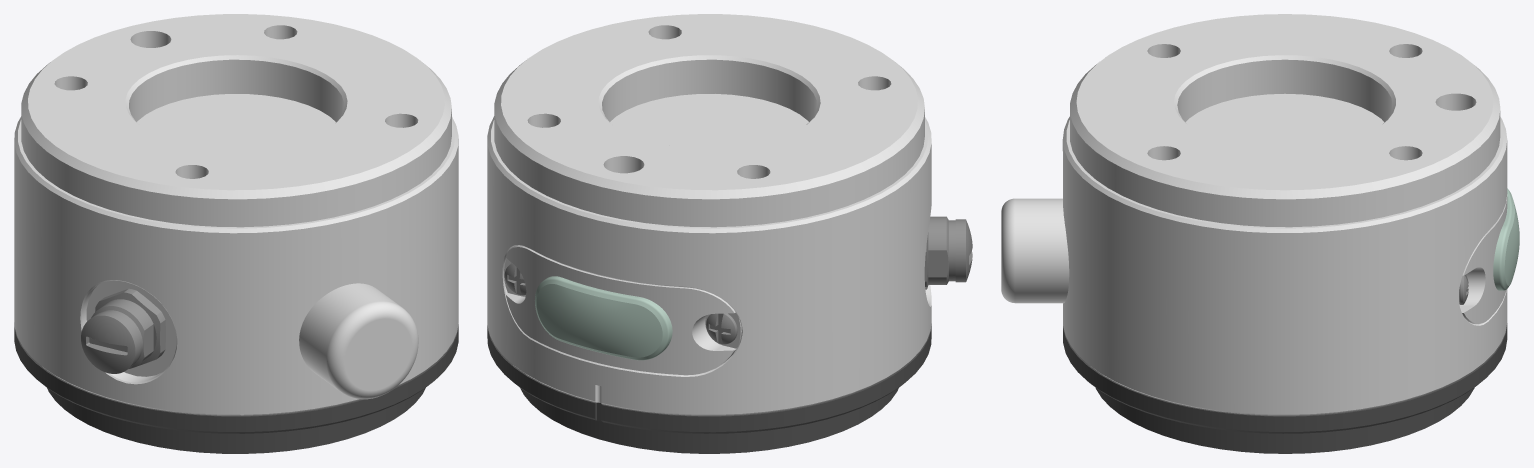
3 views of the same model, side by side, from view 1: azimuth 30°, elevation 25°; view 2: azimuth 150°, elevation 25°; view 3: azimuth 270°, elevation 25° (orthographic).
Parts seen in each view (by area): view 1: 솔리드1.001, 솔리드4.001, 솔리드11.001, 솔리드12.001, 솔리드10.001; view 2: 솔리드1.001, 솔리드4.001, 솔리드8.003, 솔리드5.001, 솔리드10.001, 솔리드12.001, 솔리드14.001, 솔리드13; view 3: 솔리드1.001, 솔리드4.001, 솔리드11.001, 솔리드8.003, 솔리드5.001.
Part boxes in pixels (box(x1,y1,x2,y2)): 솔리드1.001: box(14, 14, 458, 415); 솔리드4.001: box(14, 322, 458, 453); 솔리드11.001: box(299, 283, 418, 399); 솔리드12.001: box(81, 311, 140, 373); 솔리드10.001: box(91, 288, 165, 368); 솔리드1.001: box(487, 14, 931, 415); 솔리드4.001: box(487, 323, 931, 453); 솔리드8.003: box(504, 245, 741, 375); 솔리드5.001: box(535, 276, 672, 360); 솔리드10.001: box(924, 216, 955, 289); 솔리드12.001: box(955, 219, 972, 282); 솔리드14.001: box(706, 313, 737, 344); 솔리드13: box(504, 263, 526, 295); 솔리드1.001: box(1062, 14, 1507, 415); 솔리드4.001: box(1063, 323, 1507, 453); 솔리드11.001: box(1001, 198, 1069, 303); 솔리드8.003: box(1459, 194, 1507, 323); 솔리드5.001: box(1493, 188, 1519, 290).
Bounding box in the file's own units: 0.0673 × 0.0758 × 0.0436.
